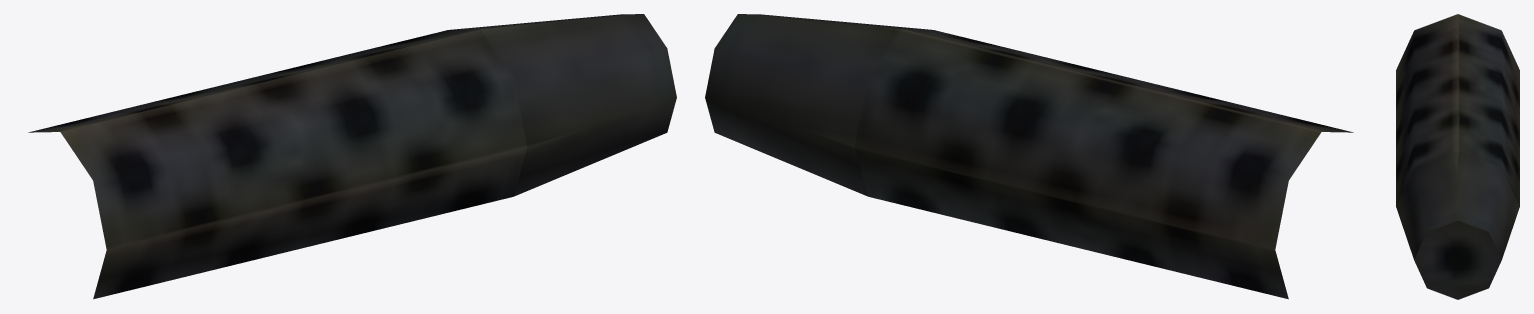
File: vehicle_sherman__tank_machinegun.glb
3 views of the same model, side by side, from view 1: azimuth 30°, elevation 25°; view 2: azimuth 150°, elevation 25°; view 3: azimuth 270°, elevation 25° (orthographic). The views are drawn at different scales.
Bounding box in the file's own units: 10.5 × 2.89 × 2.89.
1 material, 1 textured.
